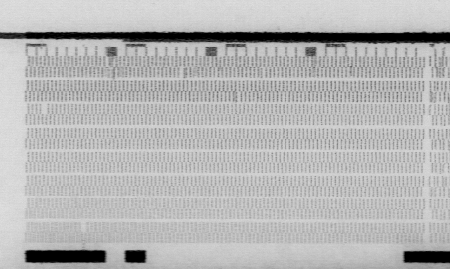Broken hole: (39, 102, 52, 114), (79, 221, 91, 234)
Oblique printing: (428, 55, 450, 235), (103, 56, 120, 82), (176, 66, 194, 80), (305, 55, 320, 68), (231, 91, 243, 104), (345, 66, 356, 80)
